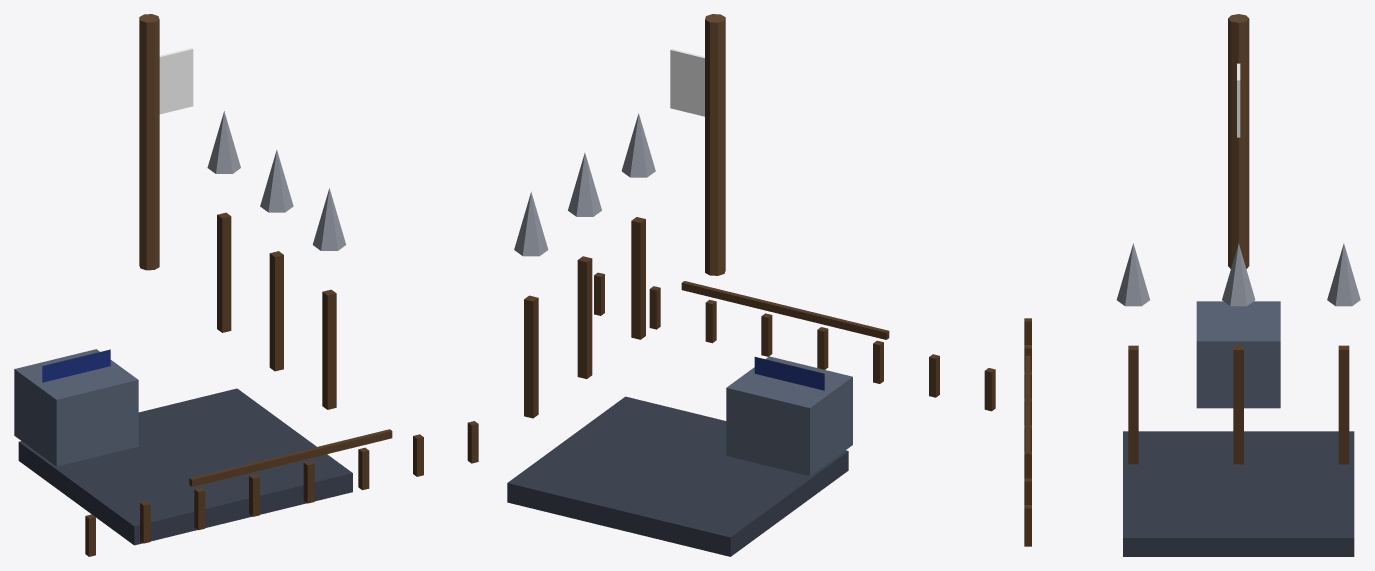
The model's file is vanguard_pike_yard.glb.
3 renders of one model, left to right at view 1: azimuth 30°, elevation 25°; view 2: azimuth 150°, elevation 25°; view 3: azimuth 270°, elevation 25°, orthographic. The views are drawn at different scales.
Visible parts, largest first — view 1: vanguard_pike_yard; view 2: vanguard_pike_yard; view 3: vanguard_pike_yard.
Boxes of the visible parts, box(x1,y1,x2,y2) form: vanguard_pike_yard: box(14, 14, 478, 556); vanguard_pike_yard: box(507, 14, 995, 556); vanguard_pike_yard: box(1024, 14, 1360, 556).
Bounding box in the file's own units: 42.75 × 49 × 31.98.
